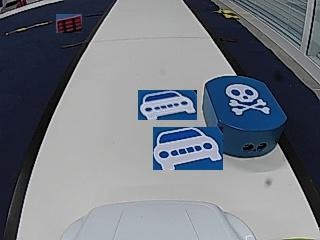danger: (226, 85, 267, 116)
